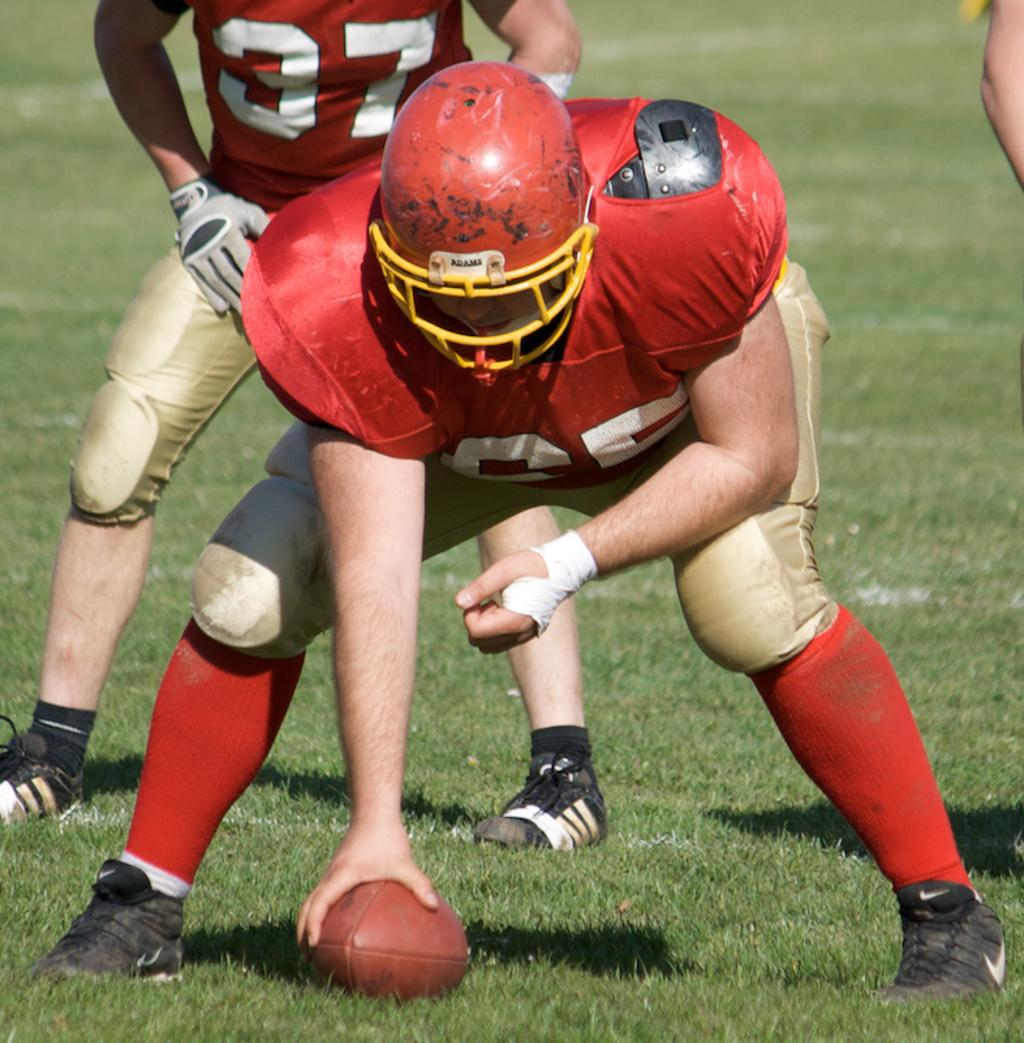face: (412, 237, 561, 359)
